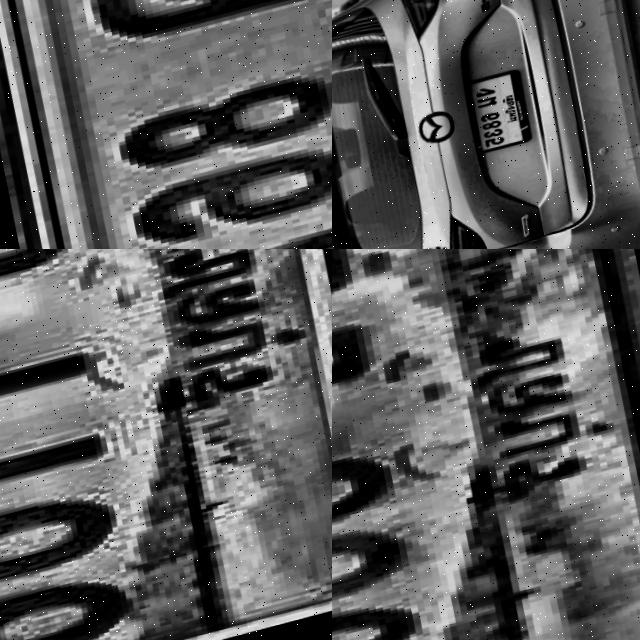license-plate: (0, 249, 332, 640), (332, 249, 640, 640), (0, 0, 332, 249), (457, 67, 543, 161)
